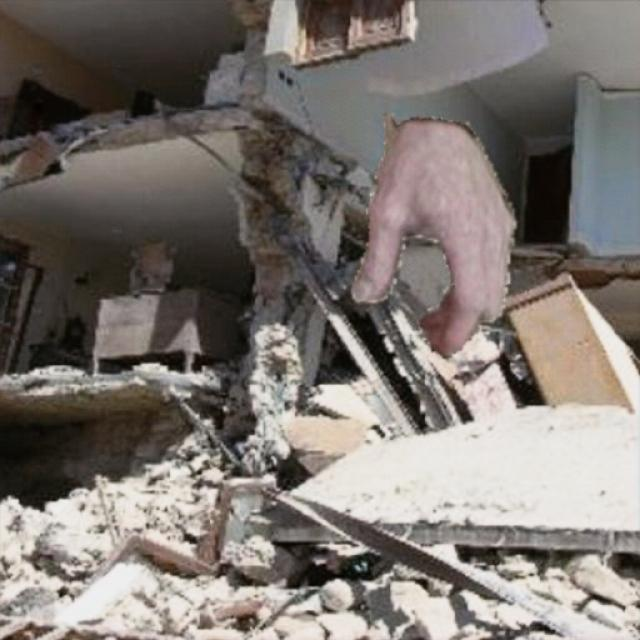Person in Rubble: (352, 114, 516, 358)
